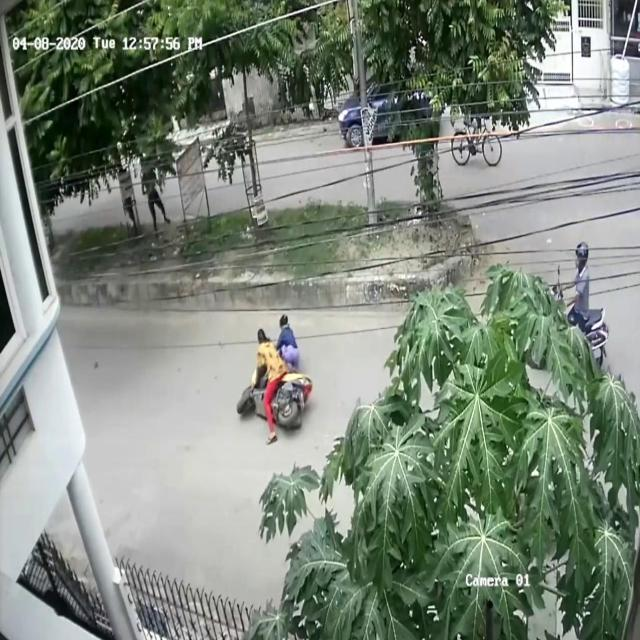accident: (233, 296, 315, 450)
